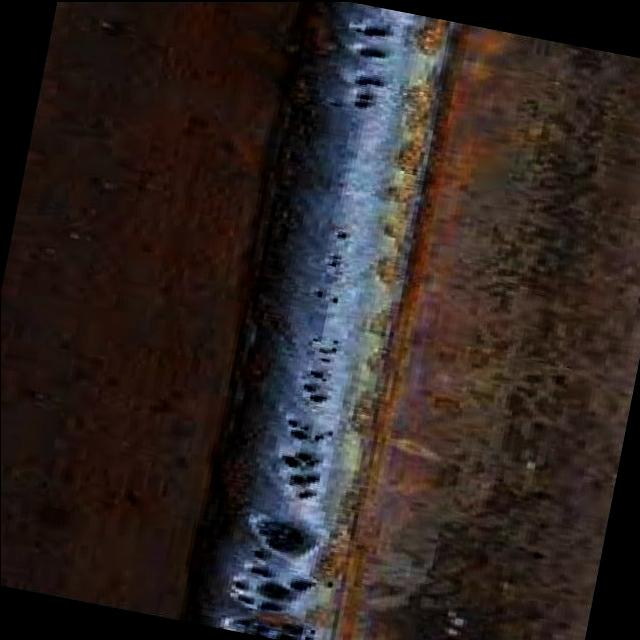defect: (276, 412, 335, 504), (227, 562, 317, 613), (217, 610, 323, 640), (245, 514, 317, 557), (317, 72, 394, 111), (350, 13, 400, 63), (293, 367, 340, 404), (297, 333, 351, 364), (310, 284, 343, 306), (318, 249, 345, 270), (329, 223, 361, 240)
